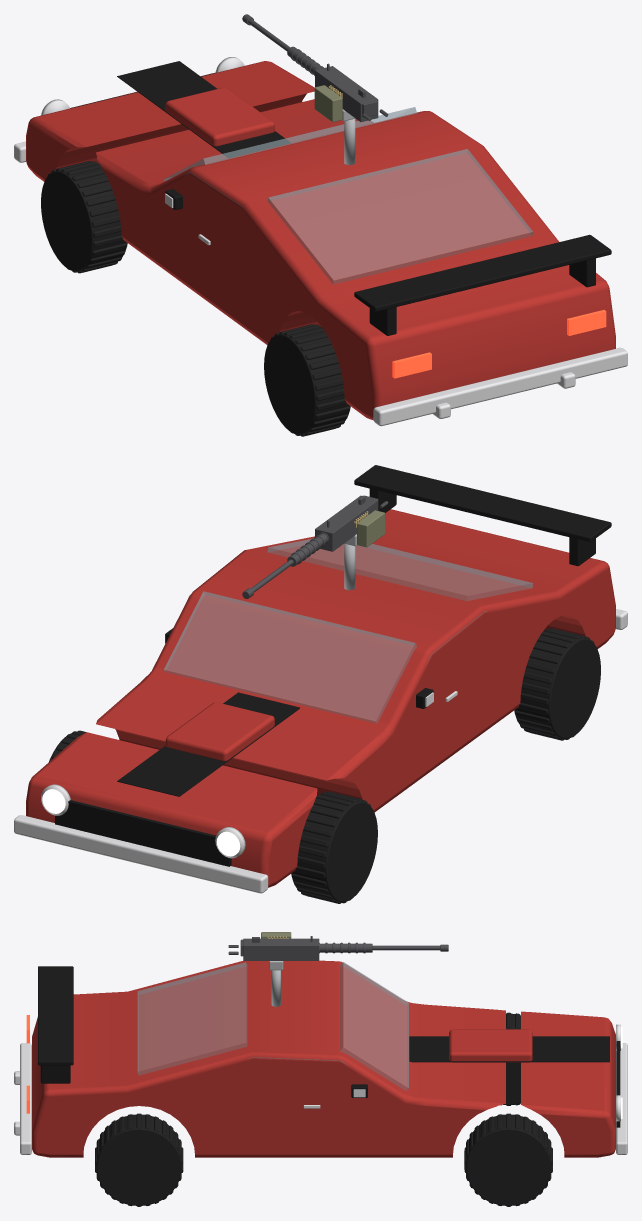
File: muscle.glb
3 renders of one model, top to bottom at view 1: azimuth 30°, elevation 25°; view 2: azimuth 150°, elevation 25°; view 3: azimuth 270°, elevation 25°, orthographic. The views are drawn at different scales.
Parts seen in each view (by area): view 1: body, rear_glass, tire.001, tire, spoiler, bumper_r, scoop, stripe, mg, windshield, ammo_box, tail (+3 smaller); view 2: body, windshield, tire, tire.001, rear_glass, spoiler, bumper_f, grille, stripe, scoop, mg, ammo_box (+1 smaller); view 3: body, rear_glass, tire.003, tire.002, windshield, spoiler, stripe, mg, scoop, bumper_r, bumper_f, tire (+1 smaller).
Part boxes in pixels (x1,y1,x2,y2): body: (26, 61, 615, 420); rear_glass: (267, 149, 533, 284); tire.001: (264, 324, 350, 436); tire: (41, 161, 127, 273); spoiler: (354, 234, 611, 311); bumper_r: (373, 347, 627, 426); scoop: (165, 87, 274, 146); stripe: (117, 61, 290, 157); mg: (242, 14, 388, 121); windshield: (164, 107, 416, 181); ammo_box: (314, 85, 342, 122); tail: (392, 352, 431, 378); body: (26, 509, 615, 887); windshield: (164, 591, 416, 723); tire: (291, 791, 377, 903); tire.001: (514, 628, 600, 740); rear_glass: (267, 538, 533, 600); spoiler: (354, 465, 611, 542); bumper_f: (14, 815, 268, 893); grille: (55, 800, 231, 866); stripe: (117, 692, 299, 796); scoop: (165, 702, 274, 760); mg: (242, 495, 388, 598); ammo_box: (357, 510, 384, 547); body: (32, 960, 615, 1157); rear_glass: (137, 962, 247, 1075); tire.003: (95, 1113, 183, 1206); tire.002: (464, 1113, 552, 1206); windshield: (340, 962, 408, 1090); spoiler: (38, 966, 73, 1065); stripe: (409, 1036, 609, 1062); mg: (228, 936, 448, 960); scoop: (449, 1029, 532, 1062); bumper_r: (20, 1043, 31, 1154); bumper_f: (616, 1043, 627, 1154); tire: (501, 1012, 520, 1105).
Size of the model in its own units: 2.3 by 1.98 by 5.15.
